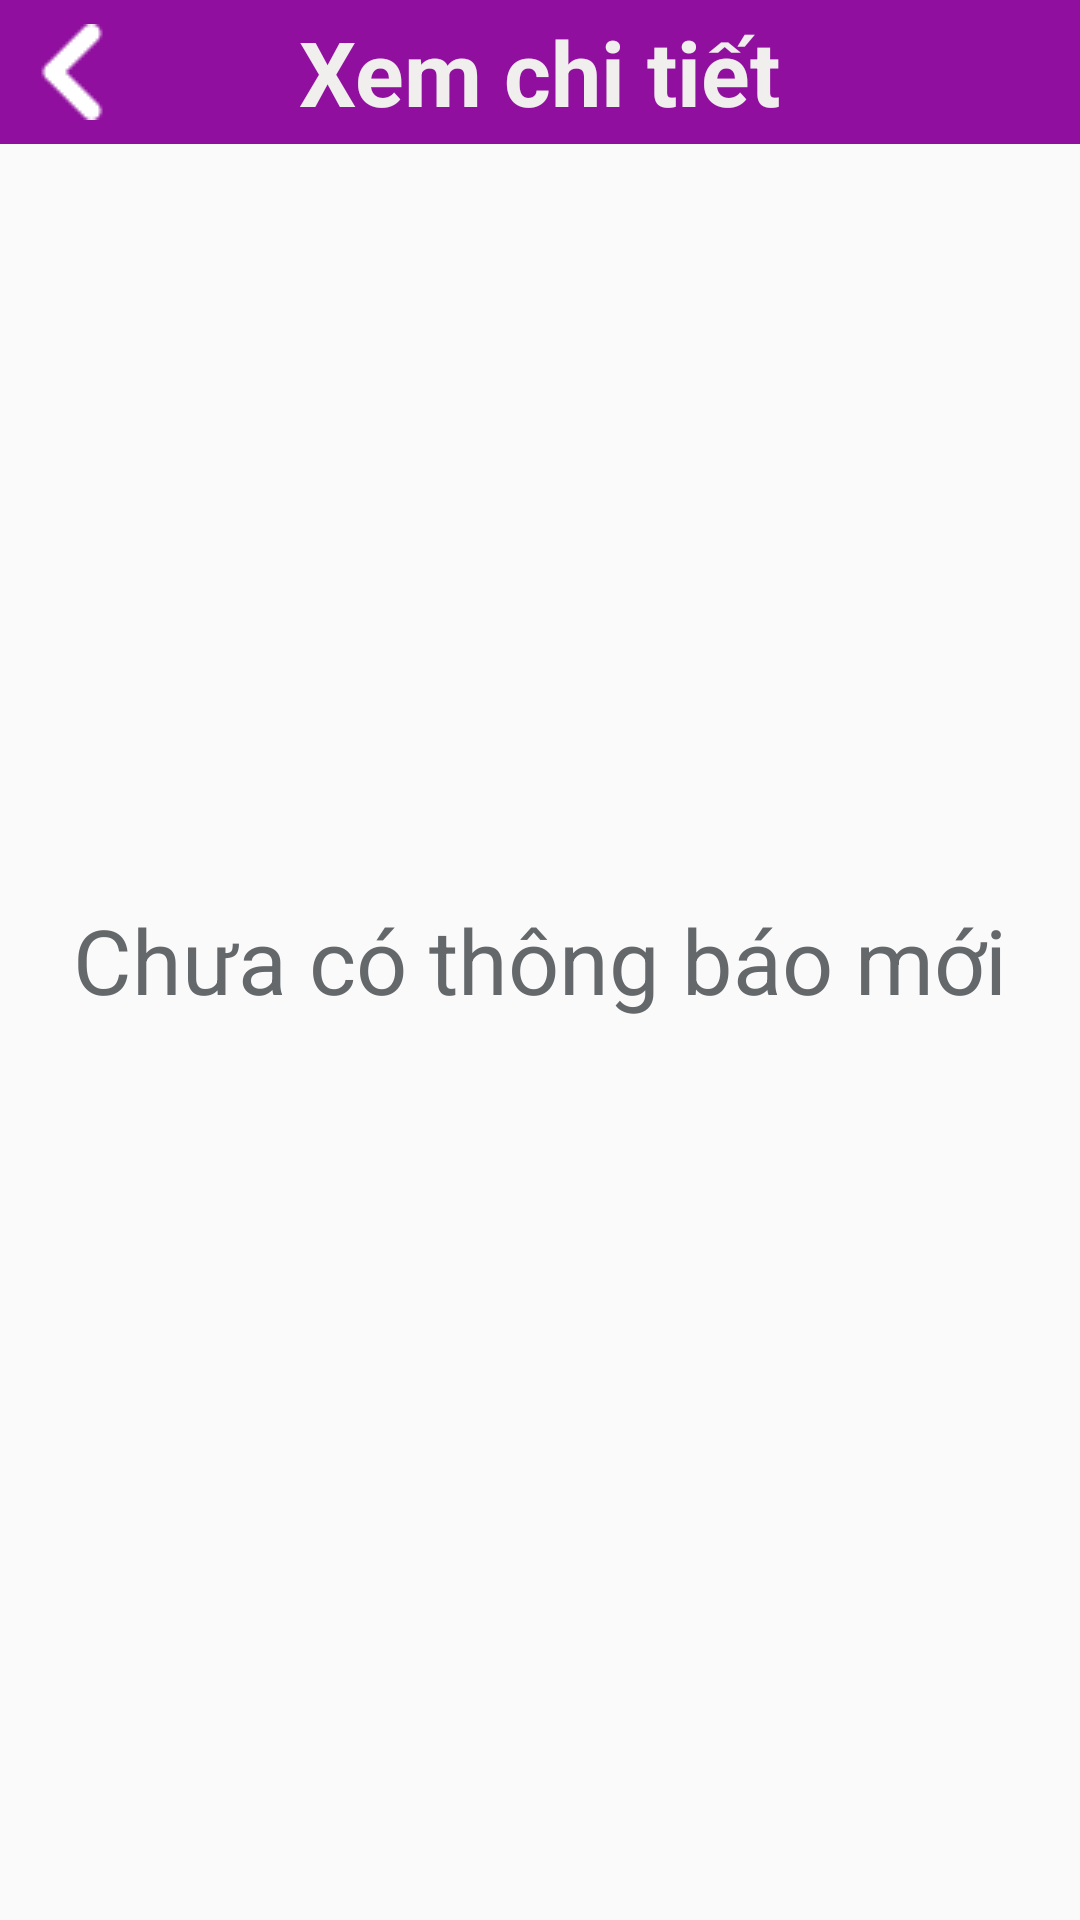

Point at icon controls on the screen. Image size 1080 × 1920, points as [x,y].
backk trang: [72,72]
